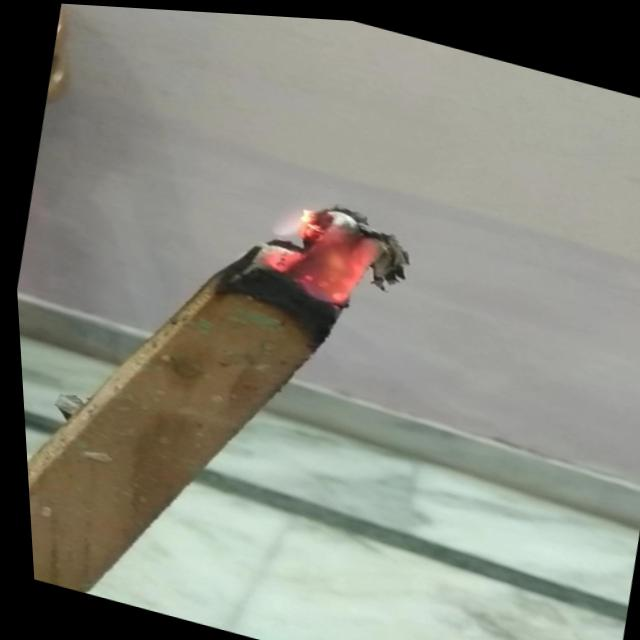fire: (253, 184, 388, 313)
